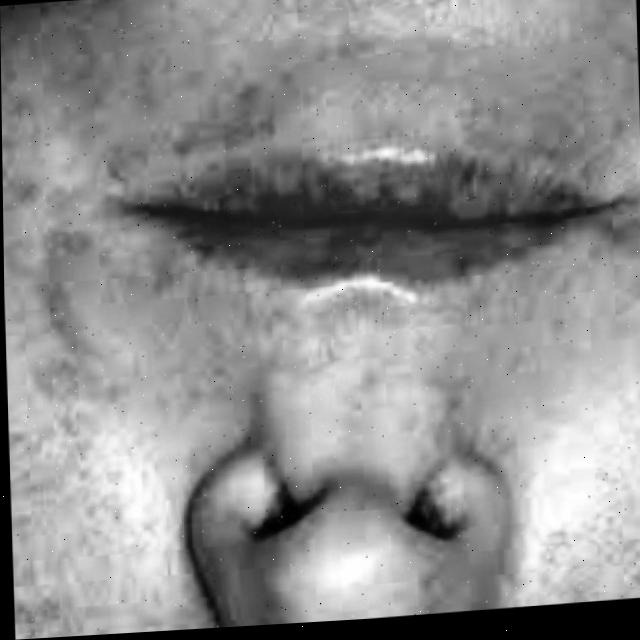Melasma: (1, 31, 293, 640)
